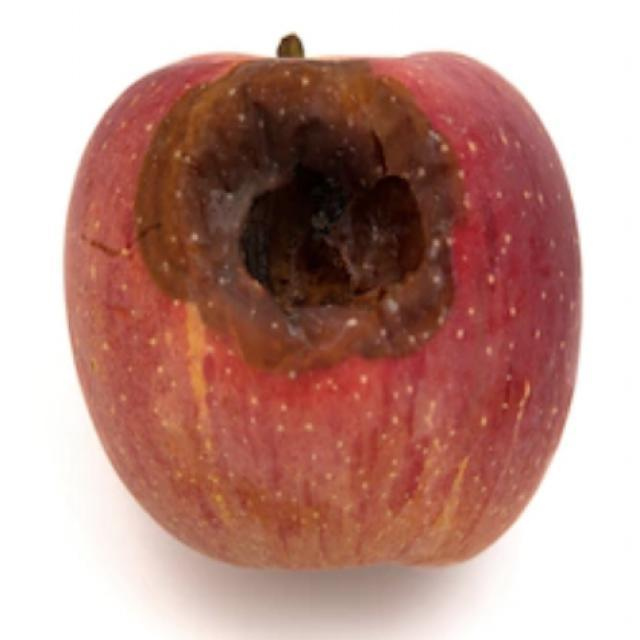Rotten: (83, 41, 567, 566)
